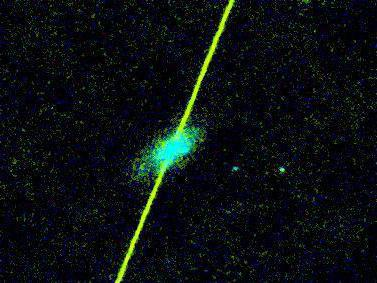star: (125, 151, 155, 181)
